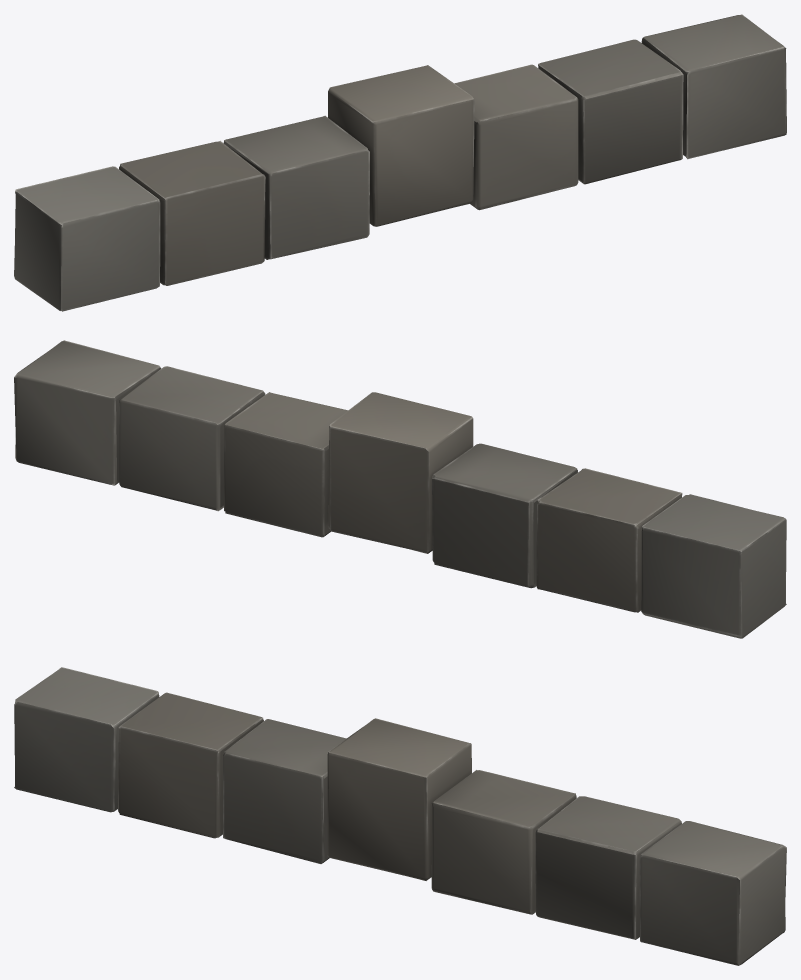
File: gallows_gate_lintel.glb
The picture shows the model from 3 angles, top to bottom: view 1: azimuth 30°, elevation 25°; view 2: azimuth 150°, elevation 25°; view 3: azimuth 330°, elevation 25°; orthographic projection.
Visible parts, largest first — view 1: gallows_gate_lintel; view 2: gallows_gate_lintel; view 3: gallows_gate_lintel.
Boxes of the visible parts, x1=… form: gallows_gate_lintel: x1=14, y1=14, x2=786, y2=311; gallows_gate_lintel: x1=14, y1=340, x2=786, y2=638; gallows_gate_lintel: x1=14, y1=667, x2=786, y2=965.
Bounding box in the file's own units: 8.98 × 1.37 × 1.02.
Materials: 1 (1 with a texture image).
